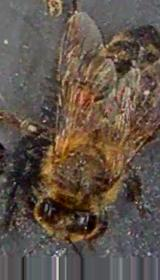varroa_mite: (71, 86, 95, 106)
